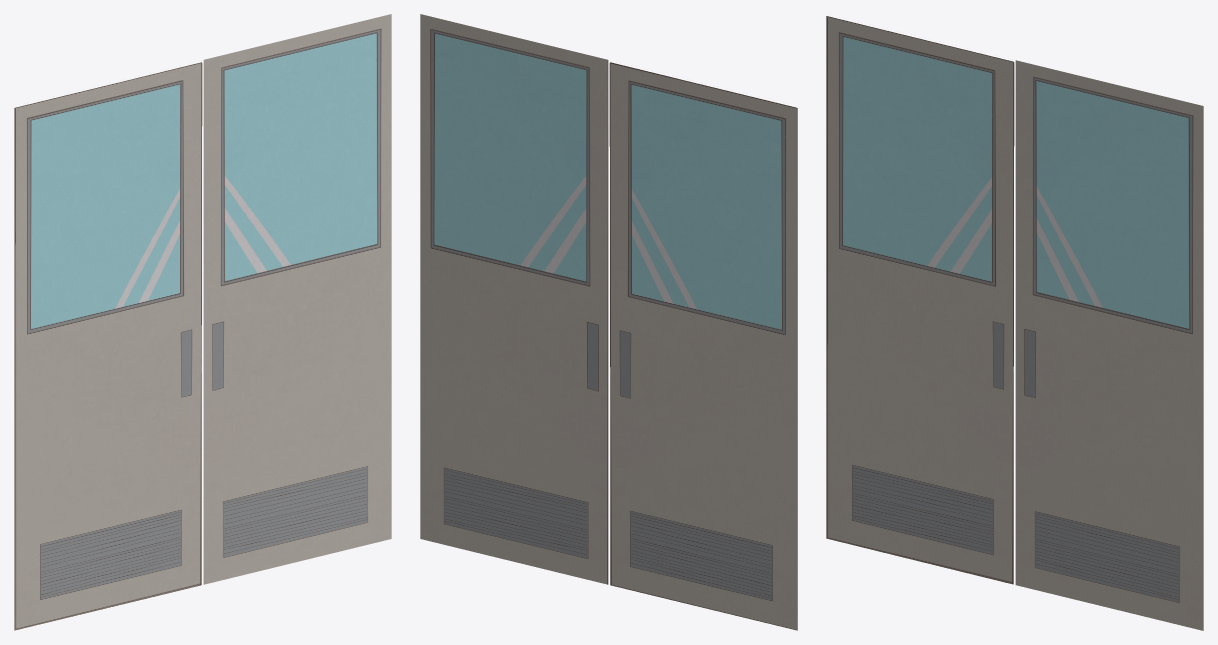
The model's file is Door.fbx.
3 renders of one model, left to right at view 1: azimuth 30°, elevation 25°; view 2: azimuth 150°, elevation 25°; view 3: azimuth 330°, elevation 25°, orthographic.
Parts seen in each view (by area): view 1: DoorL, DoorR; view 2: DoorL, DoorR; view 3: DoorL, DoorR.
Part boxes in pixels (left/top/right/bottom): DoorL: left=203, top=14, right=391, bottom=584; DoorR: left=14, top=62, right=202, bottom=630; DoorL: left=420, top=14, right=608, bottom=584; DoorR: left=609, top=62, right=797, bottom=630; DoorL: left=1015, top=60, right=1203, bottom=630; DoorR: left=826, top=16, right=1014, bottom=584.
Size of the model in its own units: 1084 by 1442 by 0.2.
